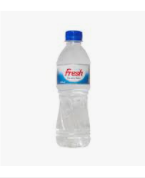Bottle: (57, 31, 91, 148)
